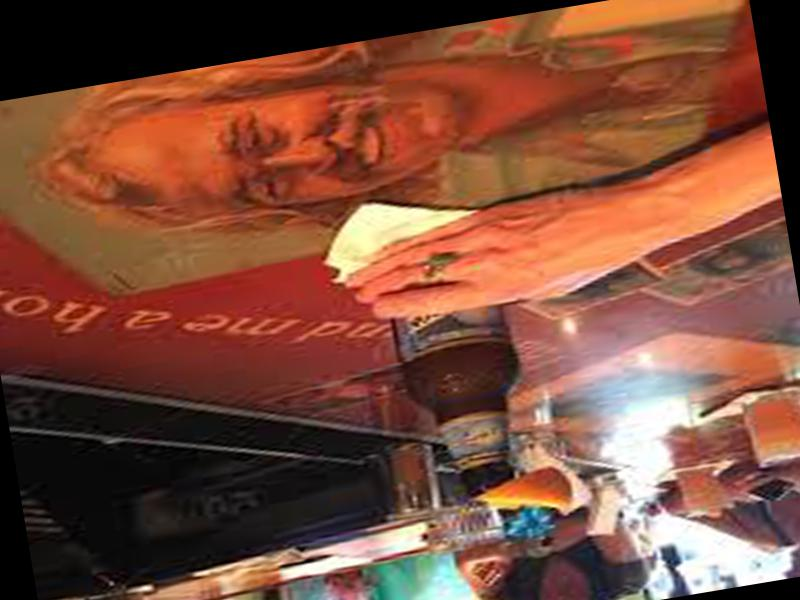Beer: (373, 224, 532, 511)
